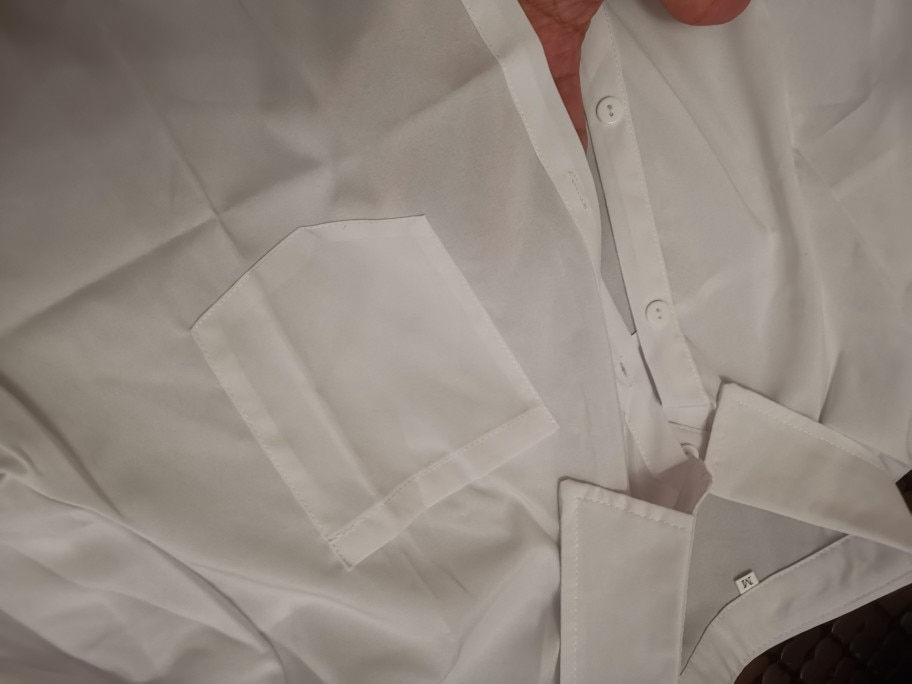shirts: (15, 1, 908, 680)
